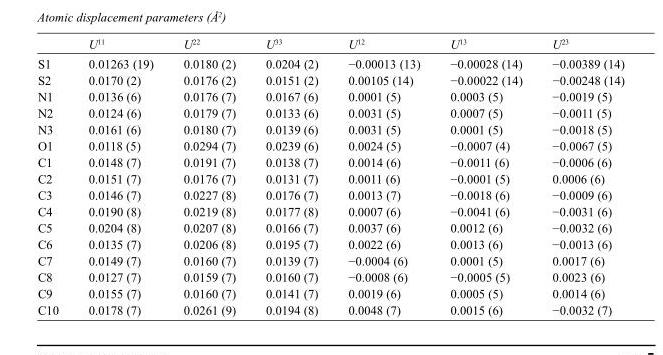table: (36, 37, 623, 316)
table column: (332, 37, 434, 316), (434, 37, 536, 316), (72, 37, 167, 316), (536, 37, 623, 316), (167, 37, 250, 316), (250, 37, 332, 316), (36, 37, 72, 316)
table column header: (36, 37, 623, 53)
table row: (36, 53, 623, 71), (36, 71, 623, 88), (36, 104, 623, 121), (36, 153, 623, 170), (36, 186, 623, 203), (36, 235, 623, 252), (36, 268, 623, 285), (36, 37, 623, 53), (36, 88, 623, 104), (36, 121, 623, 137), (36, 137, 623, 153), (36, 170, 623, 186), (36, 203, 623, 219), (36, 219, 623, 235), (36, 252, 623, 268), (36, 285, 623, 301), (36, 301, 623, 316)
